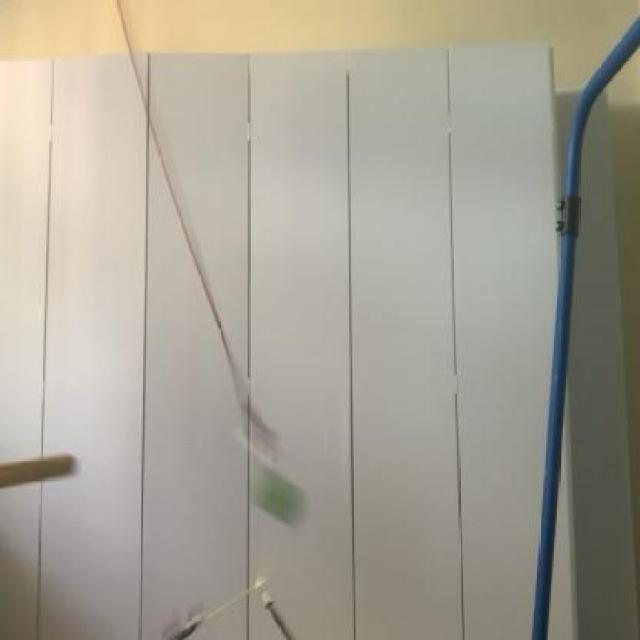baseball: (236, 454, 312, 540)
